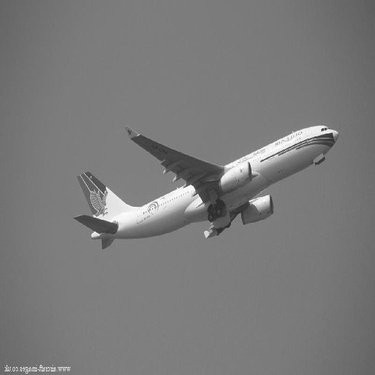airplane: (65, 121, 348, 255)
